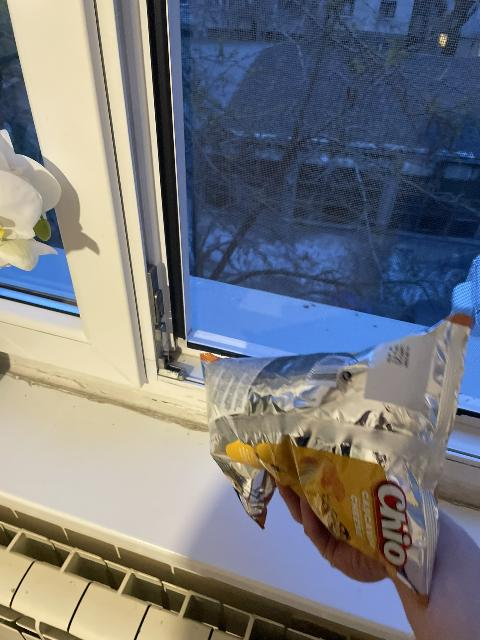Chio Cascaval 125g: (199, 305, 469, 606)
